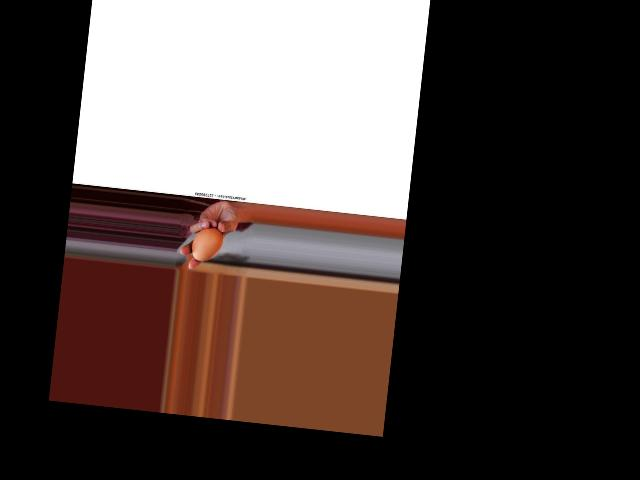egg: (189, 225, 223, 263)
